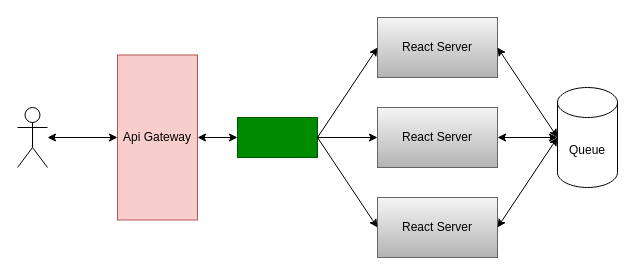
Image size: 635x275. Some labels were removed from this diagram. The shapes that lost their labels are listed below. From the top down, each one's centre as x and y in pixels, then its label:
At (32,137): "User".
At (277,137): "Nginx LB".
